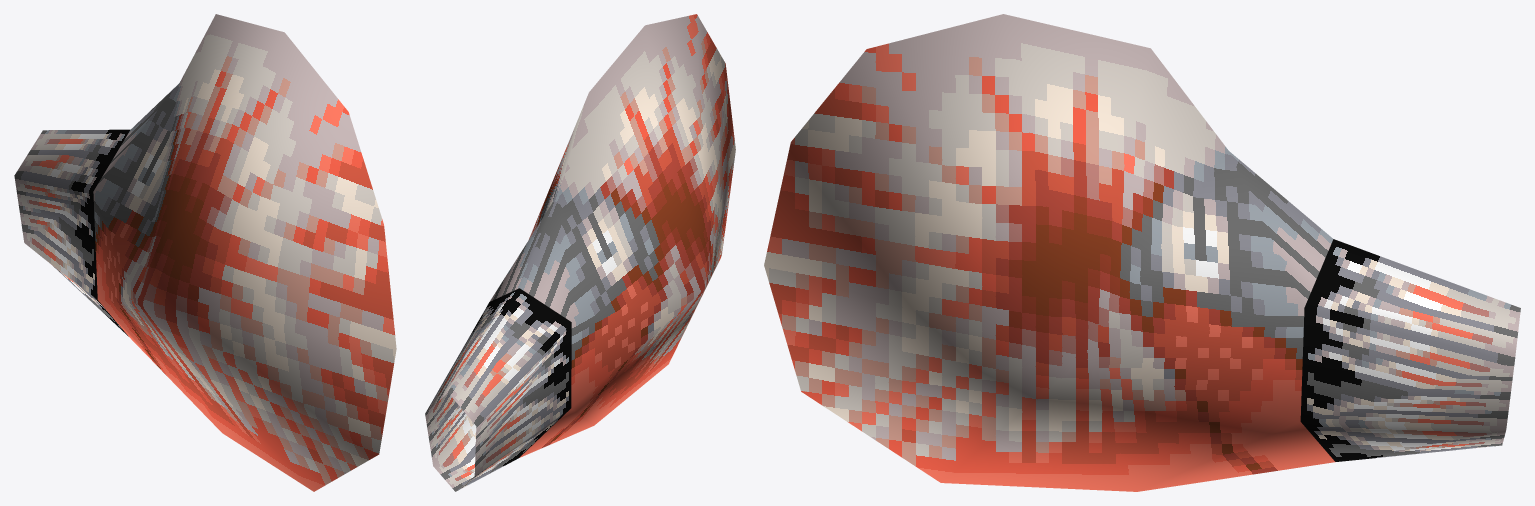
3 renders of one model, left to right at view 1: azimuth 30°, elevation 25°; view 2: azimuth 150°, elevation 25°; view 3: azimuth 270°, elevation 25°, orthographic. The views are drawn at different scales.
Visible parts, largest first — view 1: 4837fish47_r; view 2: 4837fish47_r; view 3: 4837fish47_r.
Part boxes in pixels (x1,y1,x2,y2): 4837fish47_r: [14, 14, 396, 491]; 4837fish47_r: [425, 14, 735, 491]; 4837fish47_r: [764, 14, 1520, 491].
Bounding box in the file's own units: 0.3599 × 0.7007 × 1.01.
Materials: 1 (1 with a texture image).
